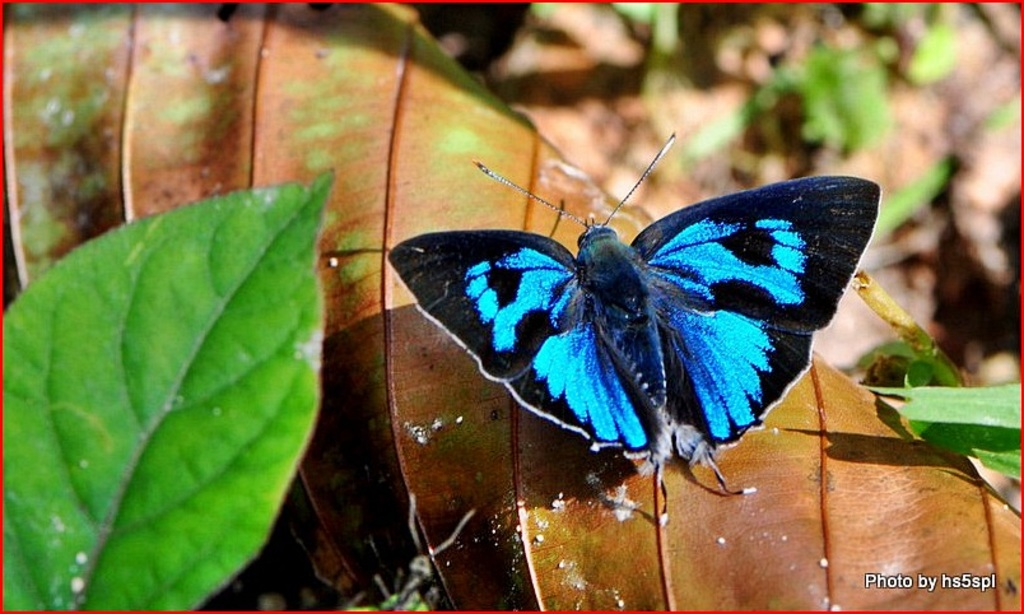Butterfly: (345, 138, 893, 508)
